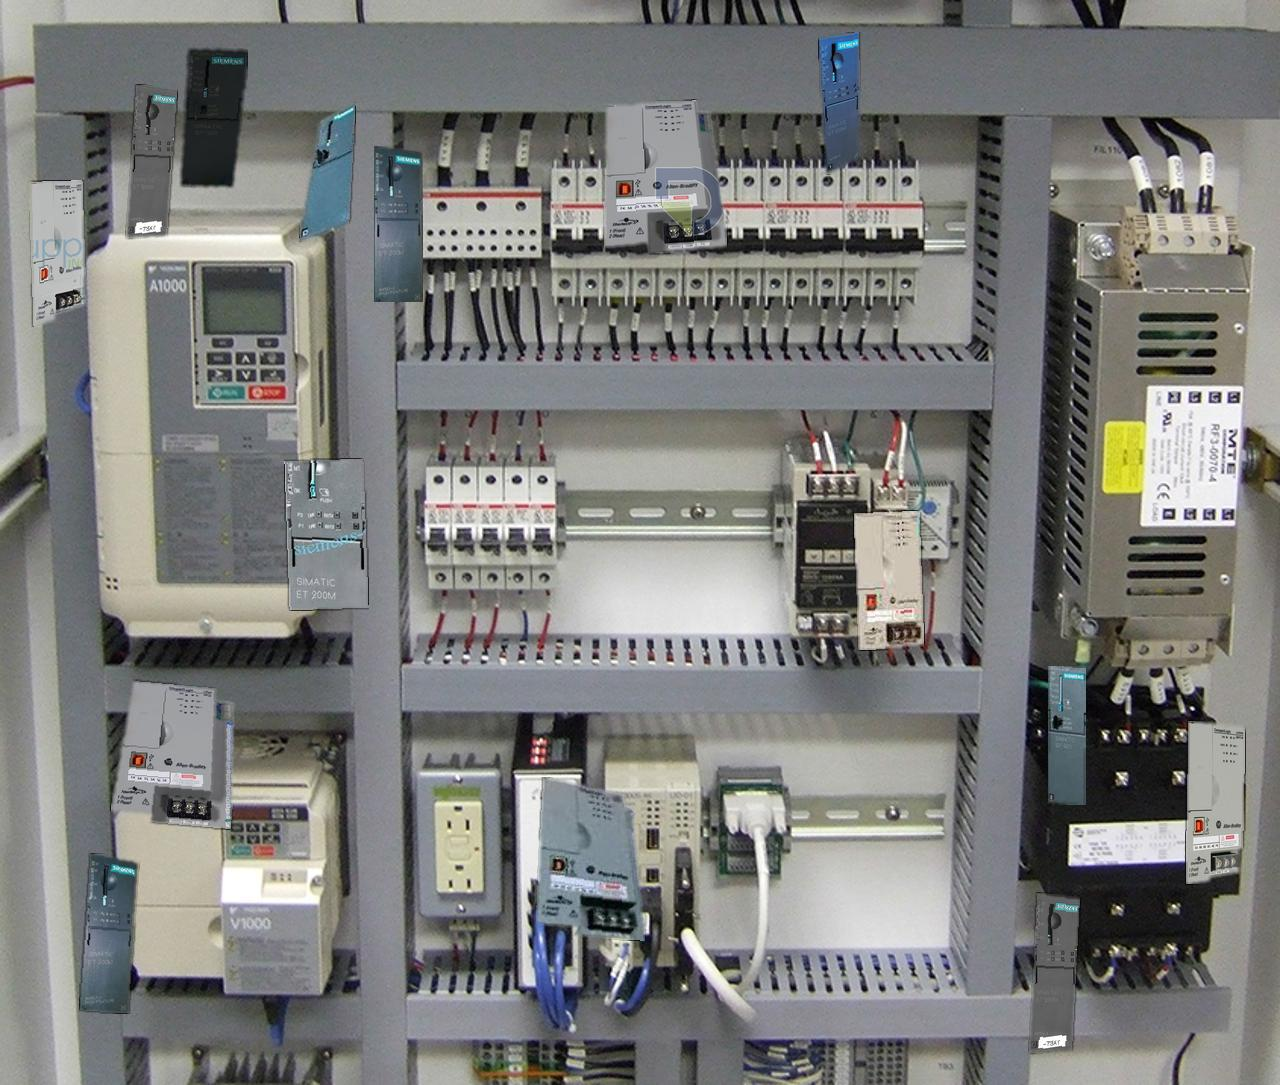AllenBradley: (604, 100, 726, 252), (111, 681, 233, 828), (537, 777, 644, 940), (854, 511, 923, 649), (1186, 721, 1244, 883), (31, 180, 84, 326)
Siemens: (181, 50, 247, 186), (299, 103, 355, 240), (1047, 666, 1085, 804)
